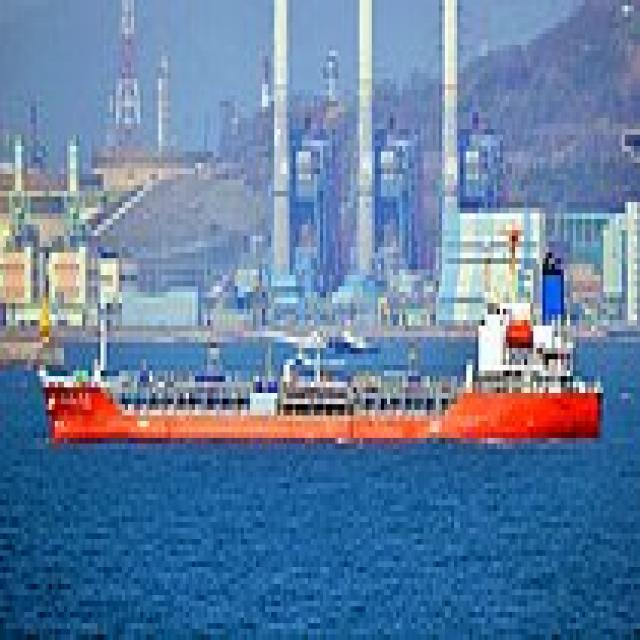Tanker: (34, 242, 604, 444)
